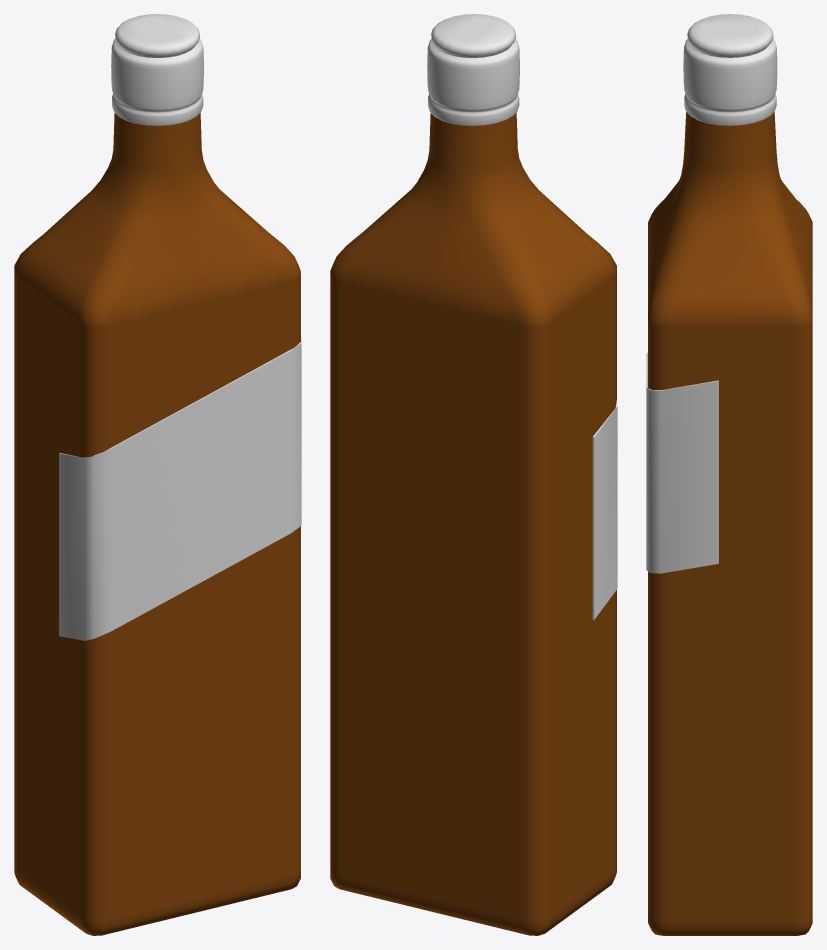
File: MESH_Bottle_B.fbx
The picture shows the model from 3 angles, left to right: view 1: azimuth 30°, elevation 25°; view 2: azimuth 150°, elevation 25°; view 3: azimuth 270°, elevation 25°; orthographic projection.
Visible parts, largest first — view 1: Bottle_B; view 2: Bottle_B; view 3: Bottle_B.
Boxes of the visible parts, x1,y1,x2,y2 form: Bottle_B: (14, 14, 301, 935); Bottle_B: (330, 14, 617, 935); Bottle_B: (646, 14, 812, 935).
Bounding box in the file's own units: 14 × 52.3 × 9.2.
